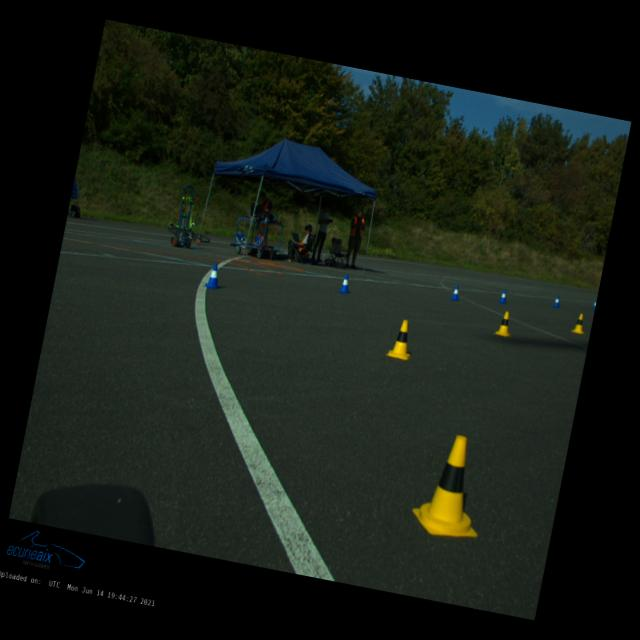blue_cone: (203, 262, 226, 290), (338, 274, 353, 294), (451, 284, 462, 302), (498, 290, 508, 304), (552, 295, 562, 308), (592, 299, 597, 310)
yellow_cone: (408, 429, 495, 543), (386, 318, 418, 361), (494, 310, 516, 338), (570, 312, 588, 334)
